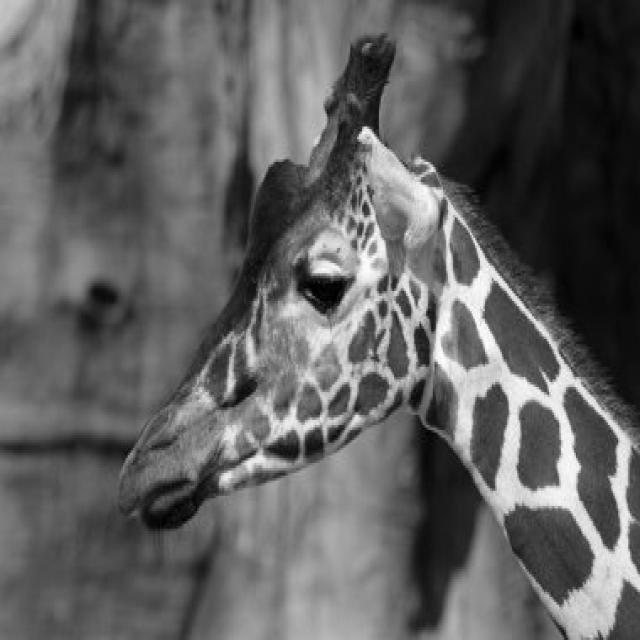Animal: (116, 36, 640, 637)
